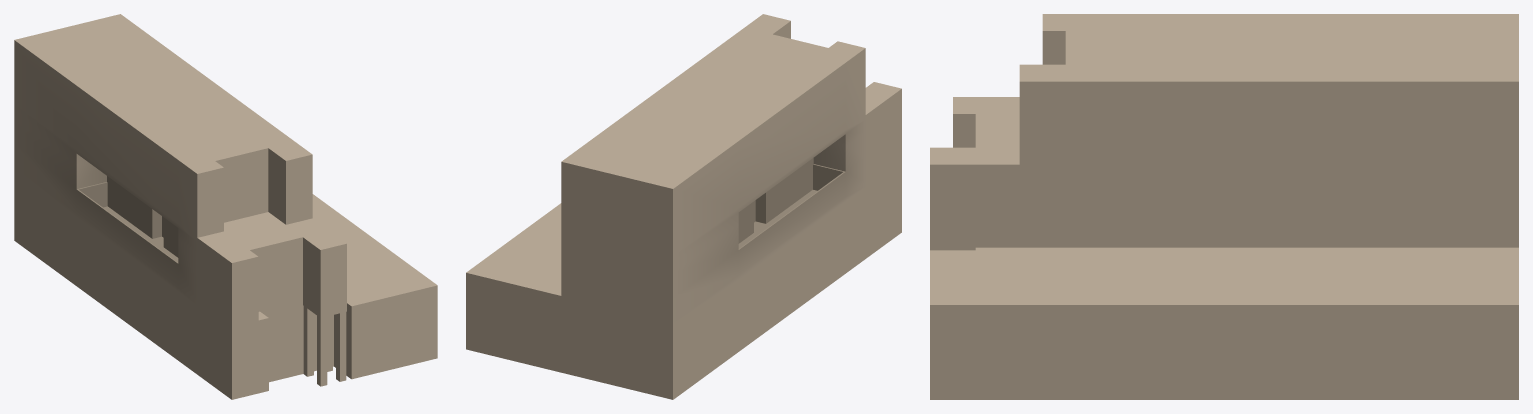
Rendered from massing.glb.
3 renders of one model, left to right at view 1: azimuth 30°, elevation 25°; view 2: azimuth 150°, elevation 25°; view 3: azimuth 270°, elevation 25°, orthographic. The views are drawn at different scales.
Visible parts, largest first — view 1: building/exterior; view 2: building/exterior; view 3: building/exterior.
Part boxes in pixels (left/top/right/bottom): building/exterior: left=14, top=14, right=437, bottom=399; building/exterior: left=466, top=14, right=901, bottom=399; building/exterior: left=930, top=14, right=1518, bottom=399.
Size of the model in its own units: 9.04 by 8.8 by 18.
